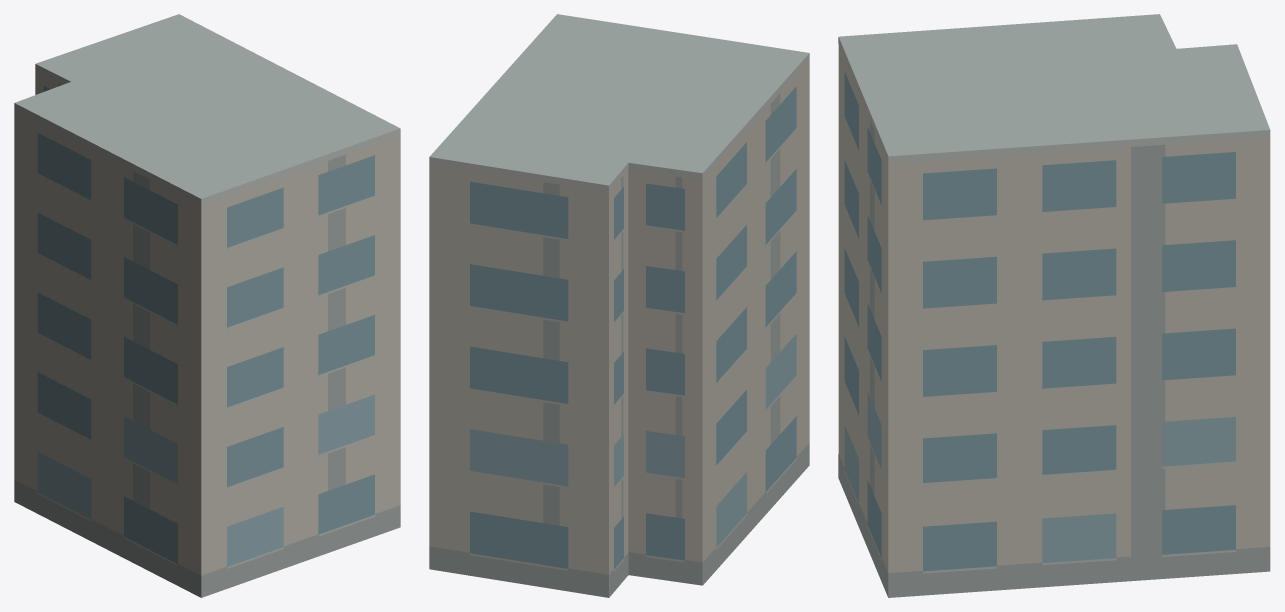
The model's file is survey-upis-32974887.glb.
3 views of the same model, side by side, from view 1: azimuth 30°, elevation 25°; view 2: azimuth 150°, elevation 25°; view 3: azimuth 270°, elevation 25° (orthographic). The views are drawn at different scales.
Parts seen in each view (by area): view 1: survey-upis-32974887.tmp; view 2: survey-upis-32974887.tmp; view 3: survey-upis-32974887.tmp.
Boxes of the visible parts, x1,y1,x2,y2 form: survey-upis-32974887.tmp: (14, 14, 400, 597); survey-upis-32974887.tmp: (429, 14, 809, 597); survey-upis-32974887.tmp: (838, 14, 1270, 597).
Size of the model in its own units: 9.9 by 14.3 by 12.69.
